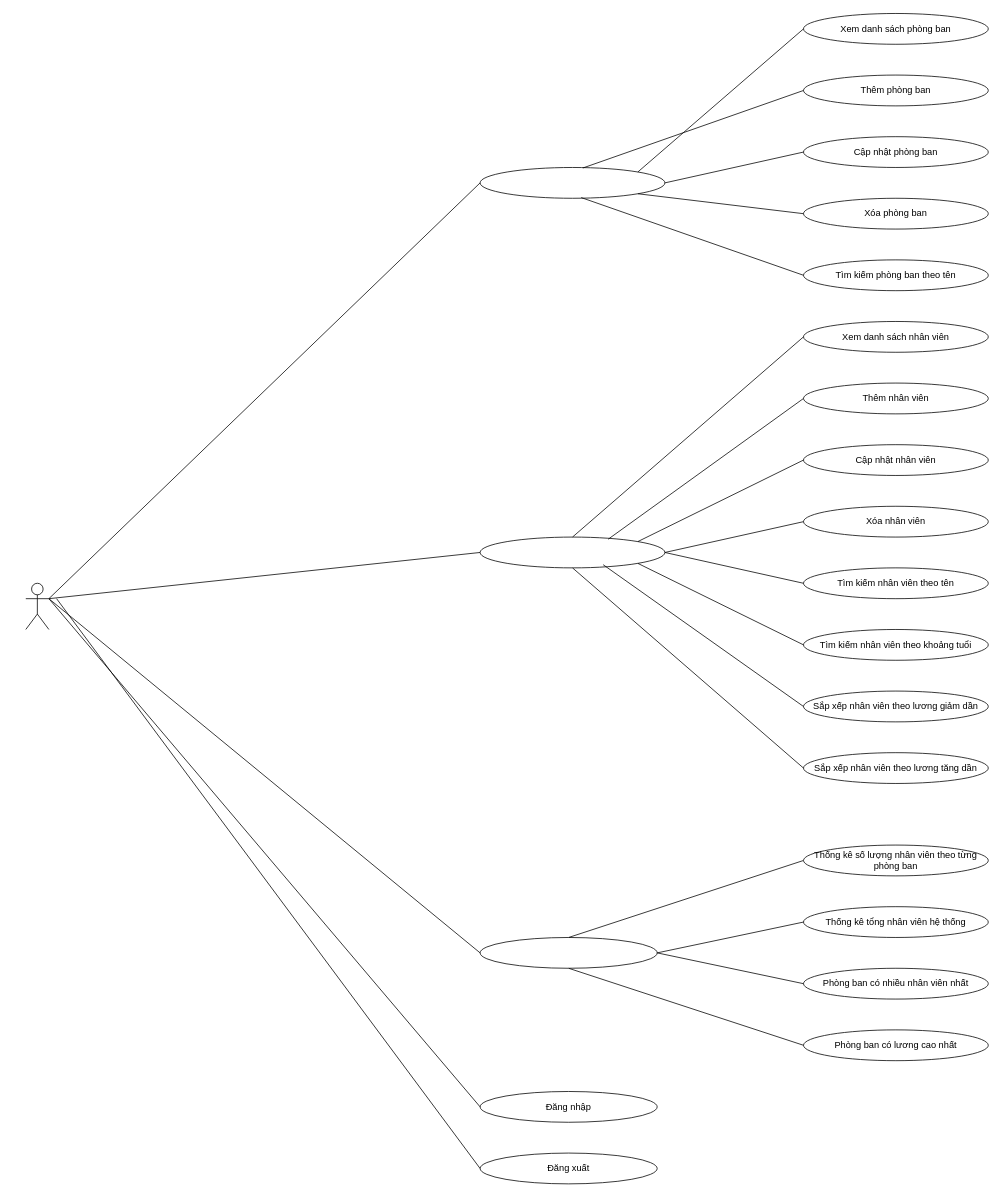
Image size: 1002x1197. Some labels were removed from this diagram. Each missing label, with the centre of its shape:
"Admin - HR" belongs at point (37, 606).
"Quản lí nhân viên" belongs at point (572, 552).
"Quản lí phòng ban" belongs at point (572, 182).
"Thống kê" belongs at point (568, 952).
